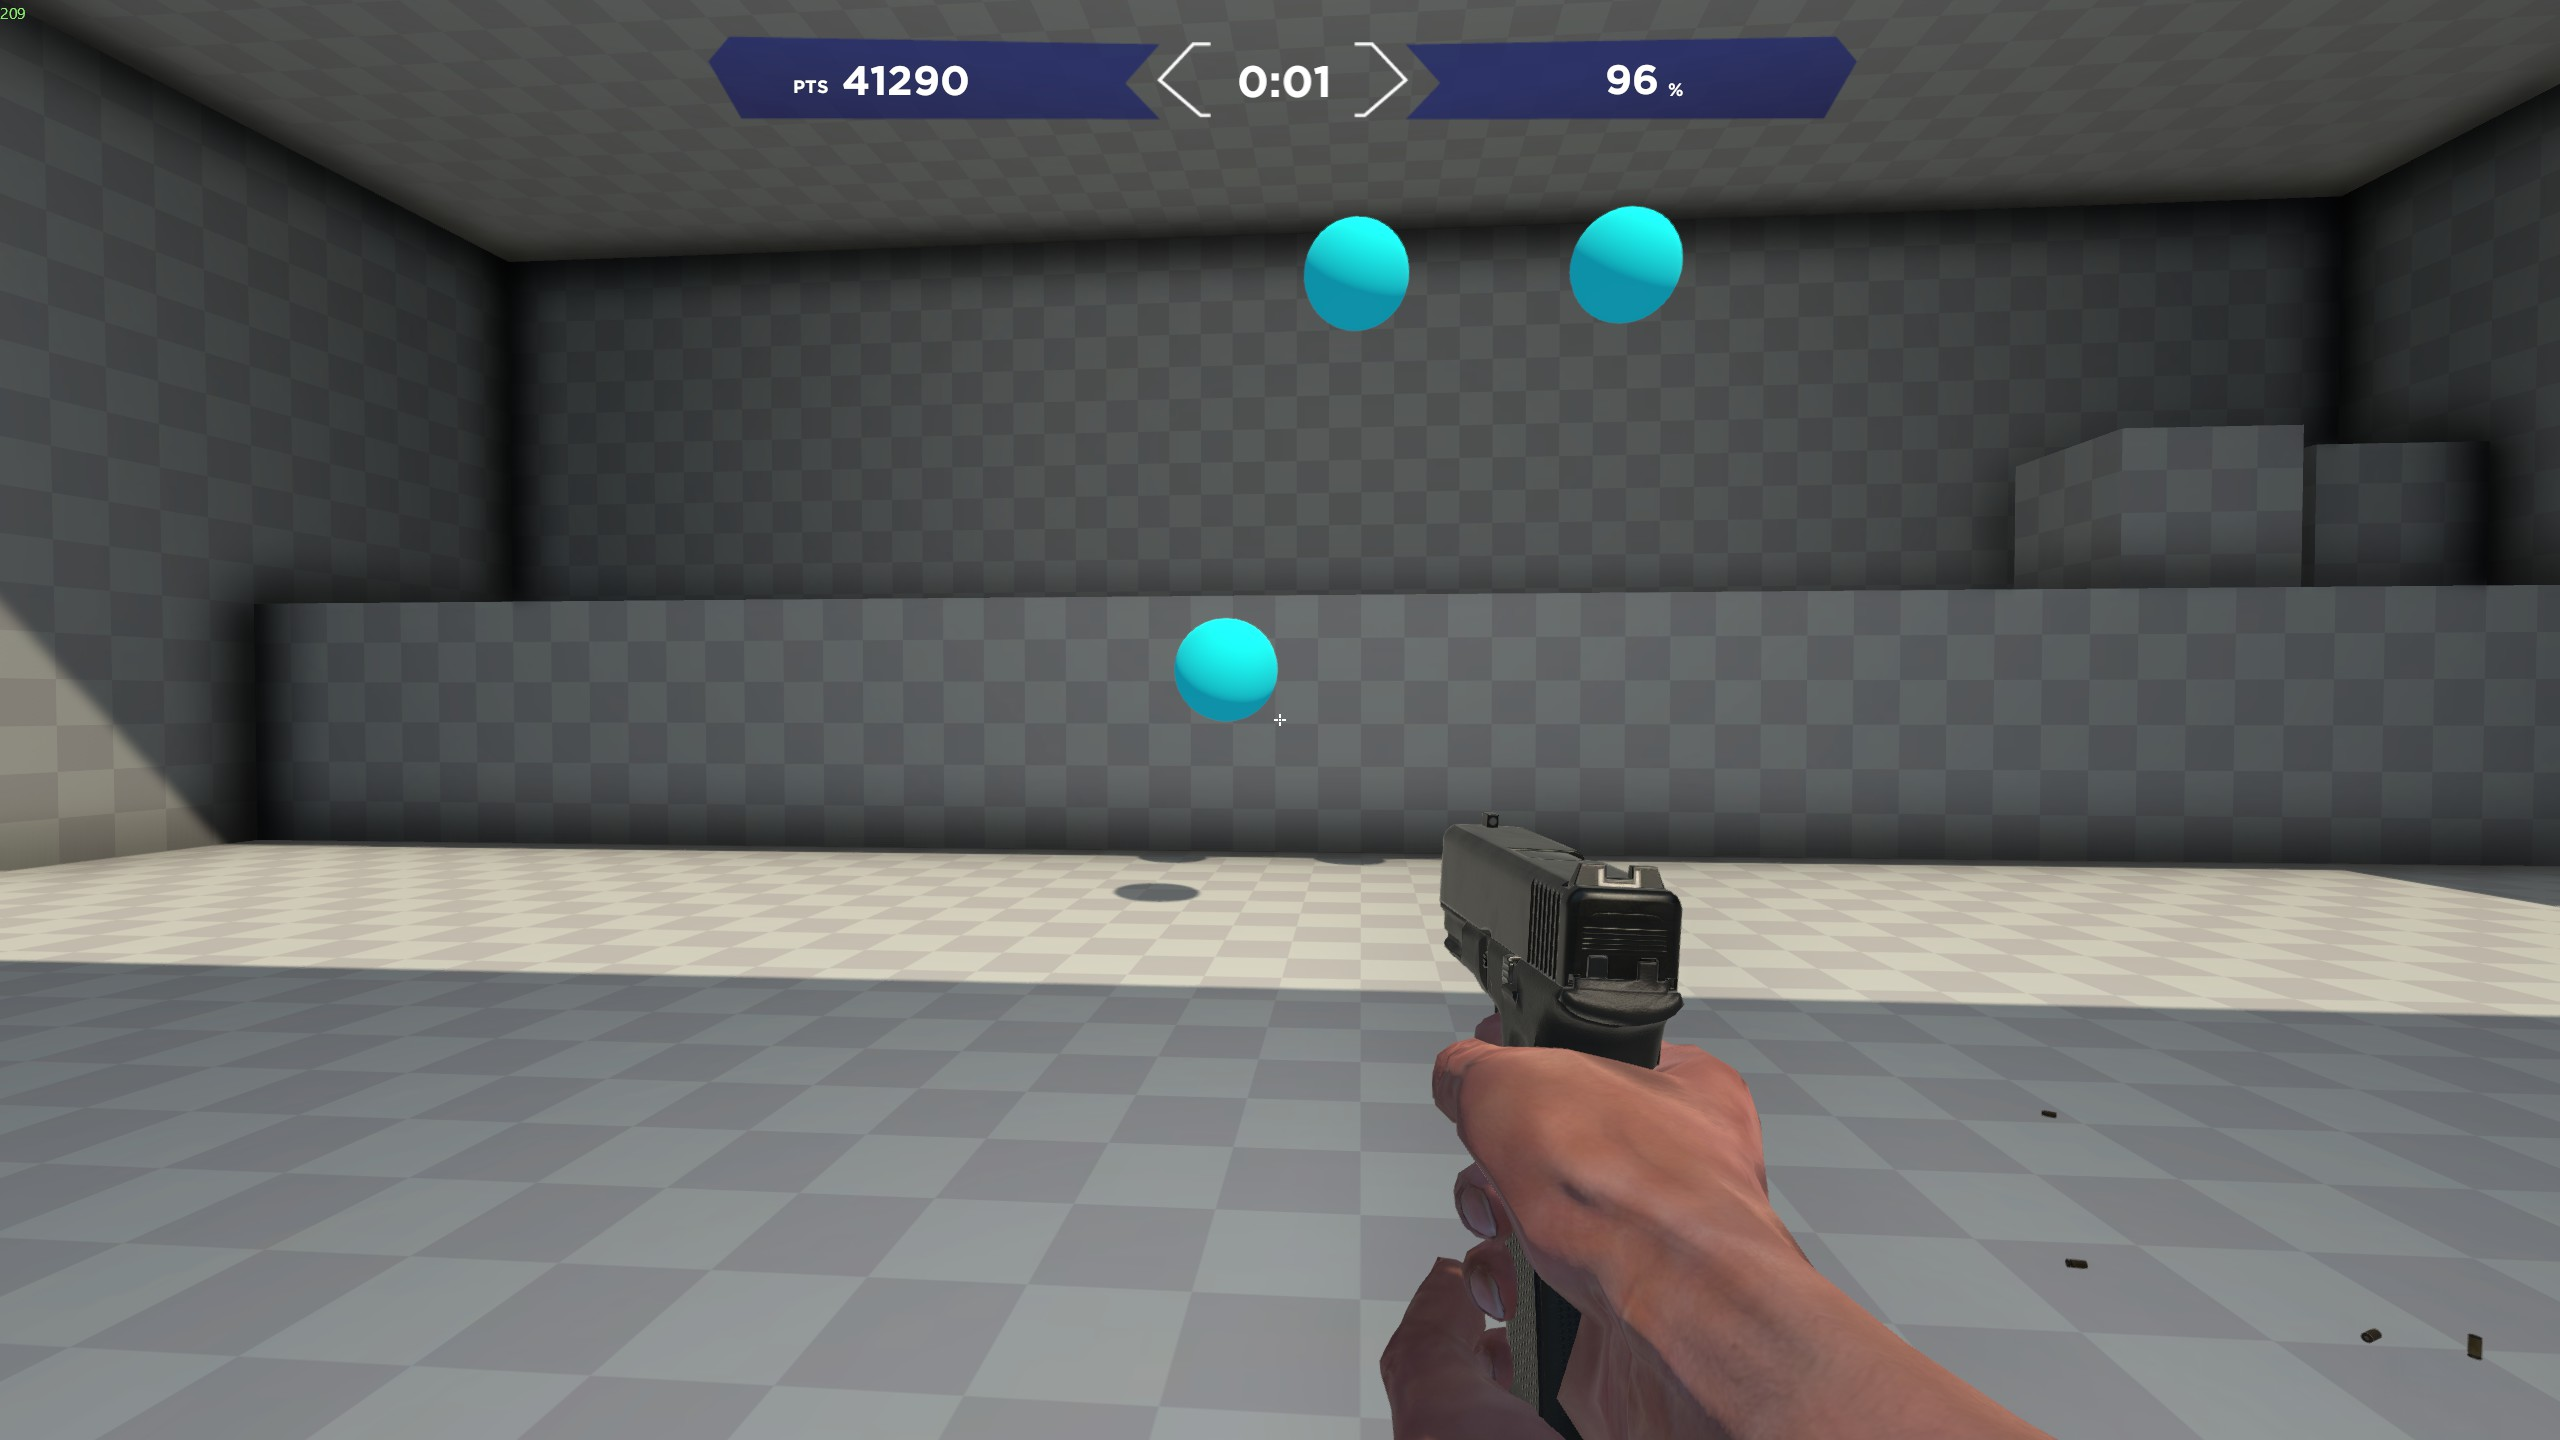Target: (1553, 200, 1711, 331), (1169, 605, 1284, 724), (1303, 211, 1412, 334)
